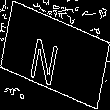N_N: (38, 25, 72, 85)
